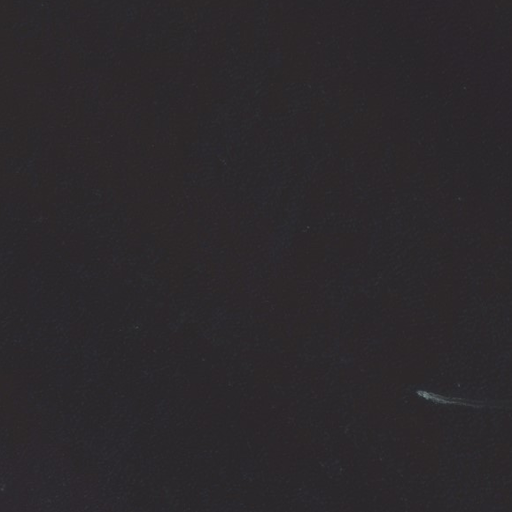ship: (412, 387, 436, 403)
